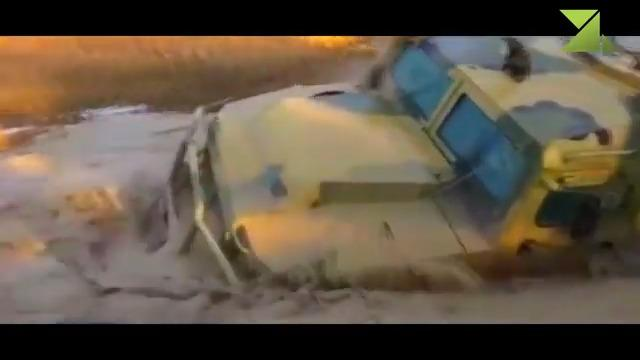MIL_HMMWV: (151, 35, 640, 289)
